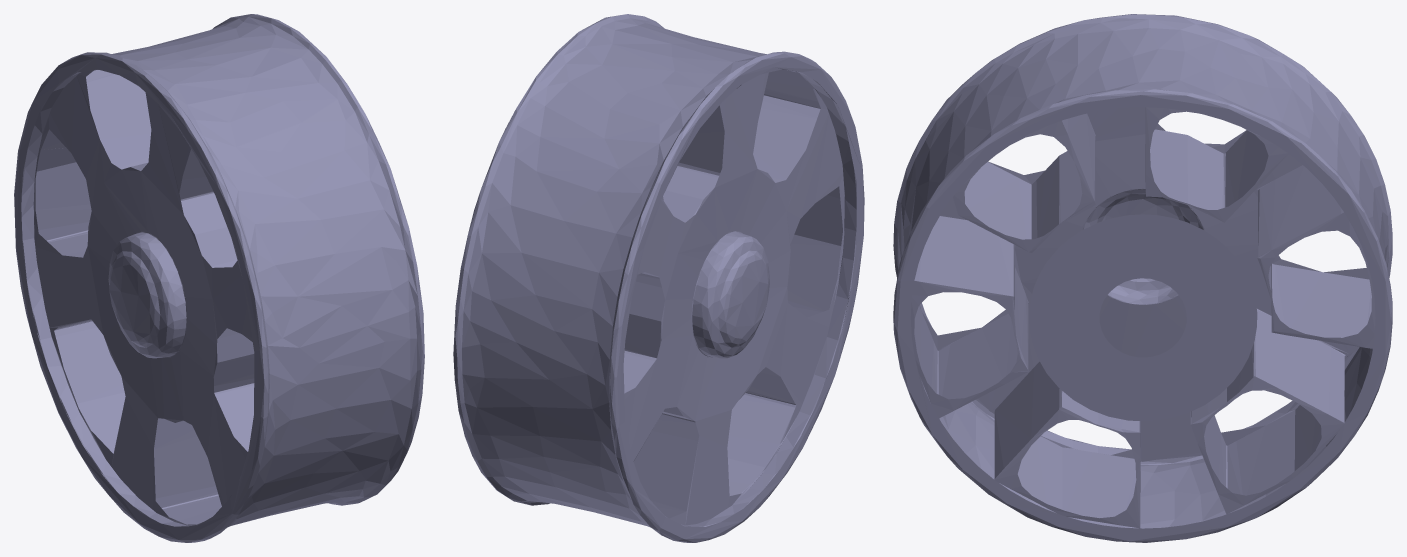
File: idler_R_LowPoly.obj
3 renders of one model, left to right at view 1: azimuth 30°, elevation 25°; view 2: azimuth 150°, elevation 25°; view 3: azimuth 270°, elevation 25°, orthographic.
Visible parts, largest first — view 1: idler_R_LowPoly\Facets; view 2: idler_R_LowPoly\Facets; view 3: idler_R_LowPoly\Facets.
Boxes of the visible parts, x1=… form: idler_R_LowPoly\Facets: x1=14, y1=14, x2=424, y2=542; idler_R_LowPoly\Facets: x1=453, y1=14, x2=864, y2=542; idler_R_LowPoly\Facets: x1=893, y1=14, x2=1392, y2=542.
Bounding box in the file's own units: 0.2406 × 0.6067 × 0.6065.
